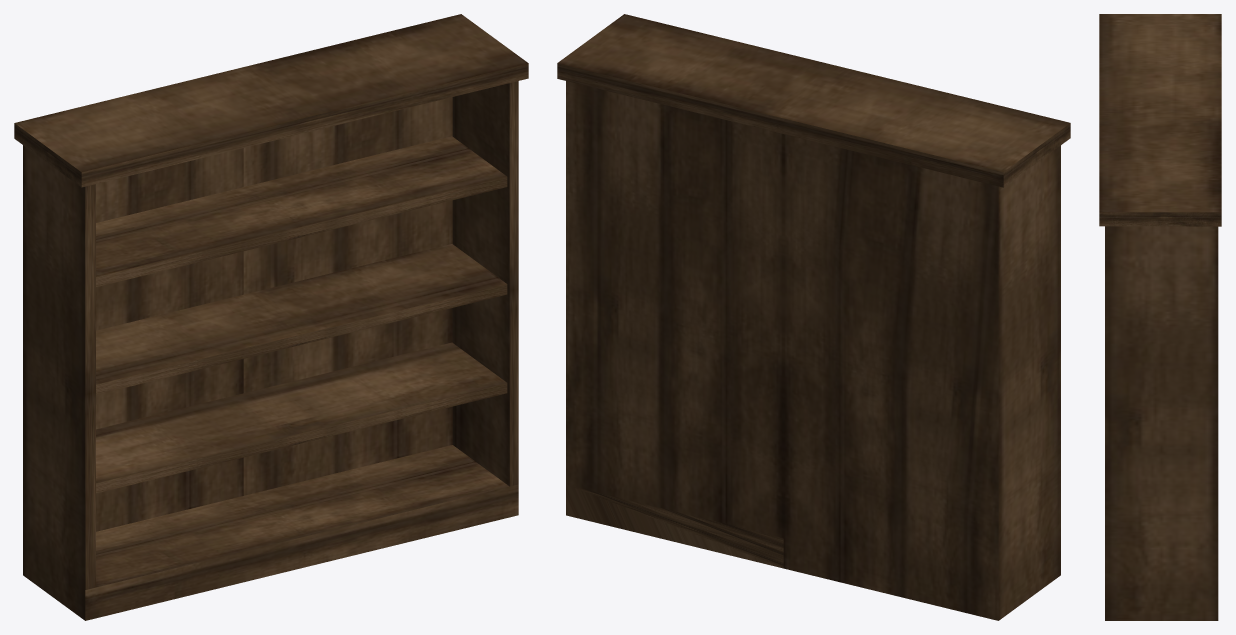
Rendered from bookshelf_spanish.fbx.
3 views of the same model, side by side, from view 1: azimuth 30°, elevation 25°; view 2: azimuth 150°, elevation 25°; view 3: azimuth 270°, elevation 25° (orthographic). The views are drawn at different scales.
Visible parts, largest first — view 1: shelf_case, shelf_2, shelf_1, shelf_3; view 2: shelf_case; view 3: shelf_case.
Part boxes in pixels (<box>): shelf_case: <box>14,14,528,620</box>; shelf_2: <box>96,342,507,493</box>; shelf_1: <box>96,136,507,287</box>; shelf_3: <box>96,244,507,394</box>; shelf_case: <box>557,14,1070,620</box>; shelf_case: <box>1099,14,1221,620</box>.
Size of the model in its own units: 862 by 834 by 225.
1 material, 1 textured.
